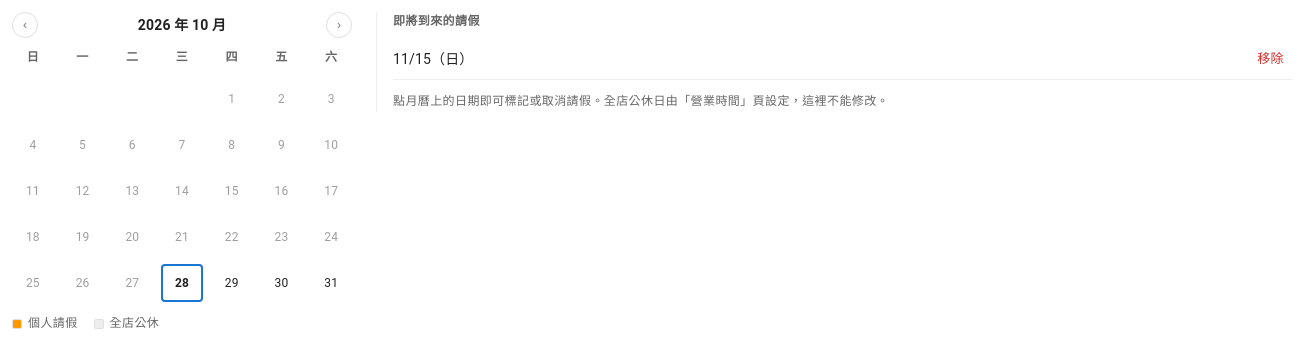
DesignerLeavesTab › 點已標記的日期：直接移除，不查受影響預約、不警告
The width and height of the screenshot is (1304, 346).
Click the button named "下個月" at (339, 25), box 326,12 -> 352,38
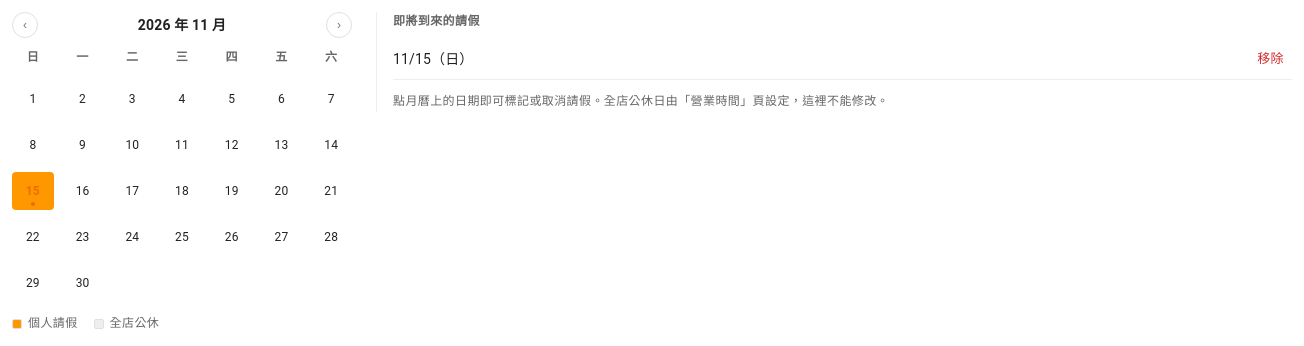
Click the button "15" at (33, 191), box 12,172 -> 54,210
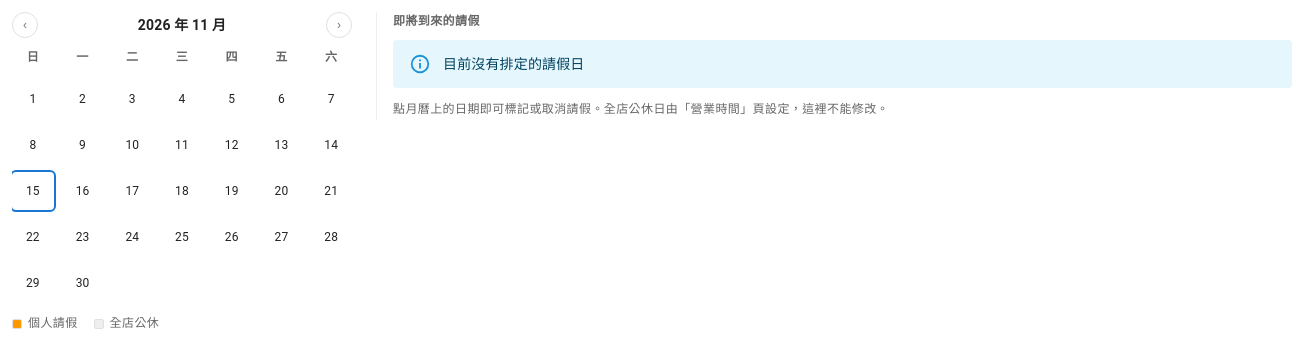
Now the text "目前沒有排定的請假日" is shown, box 443,56 -> 584,72
